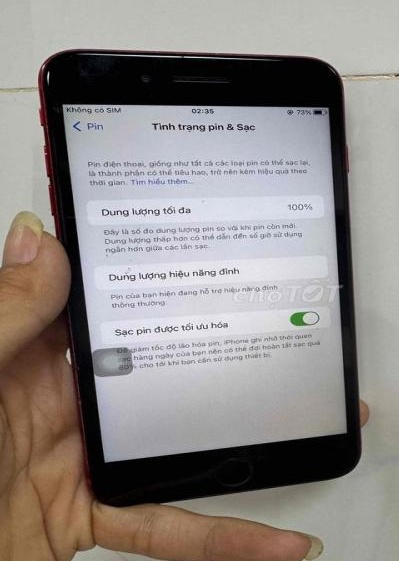scratch: (26, 37, 373, 512)
